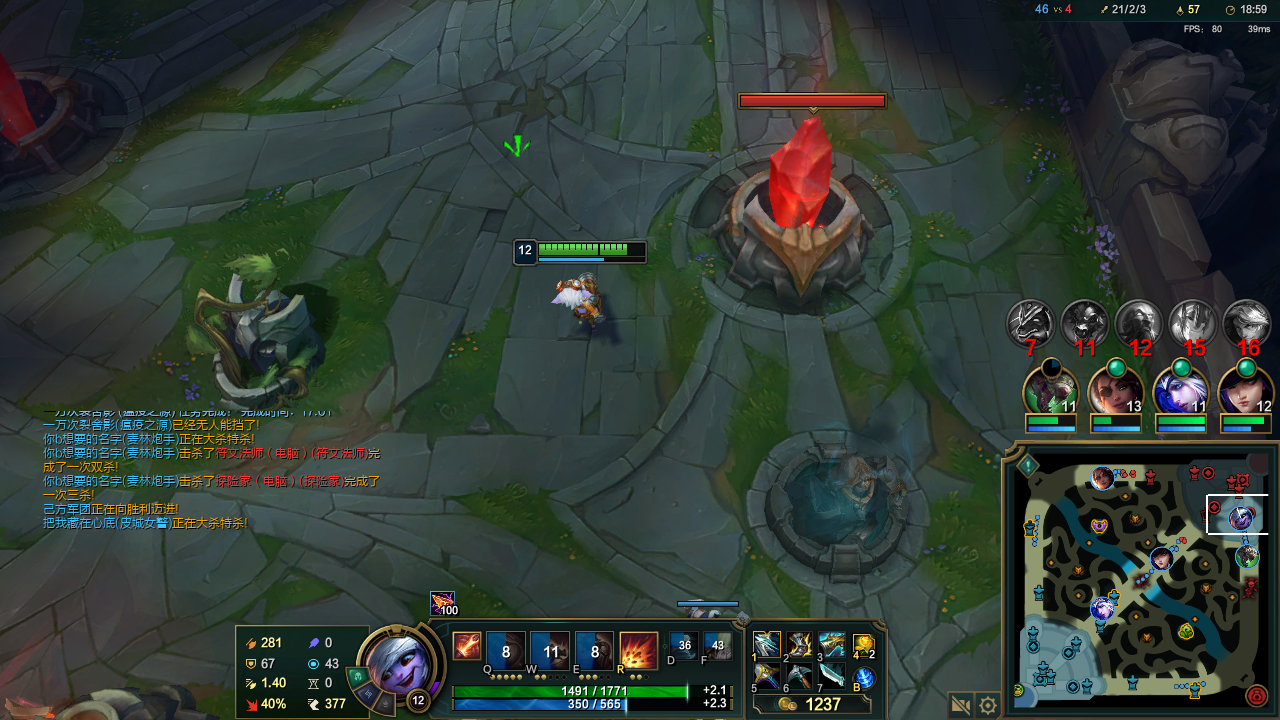DFSJ: (712, 89, 892, 286)
